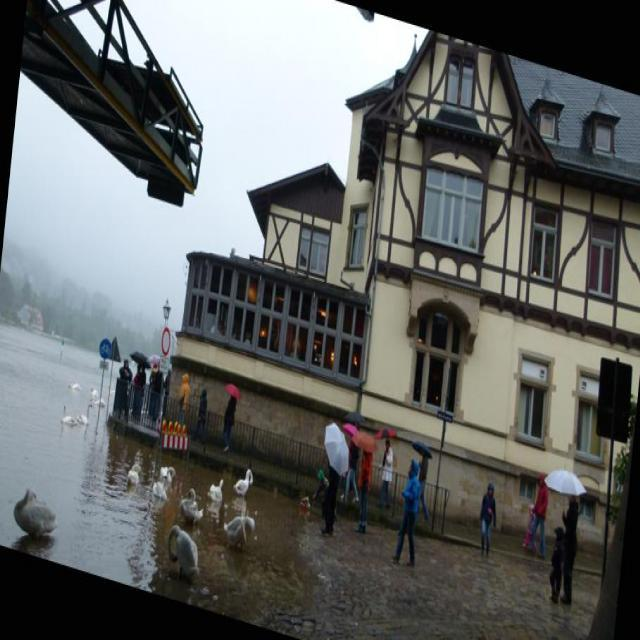flood: (0, 297, 318, 635)
